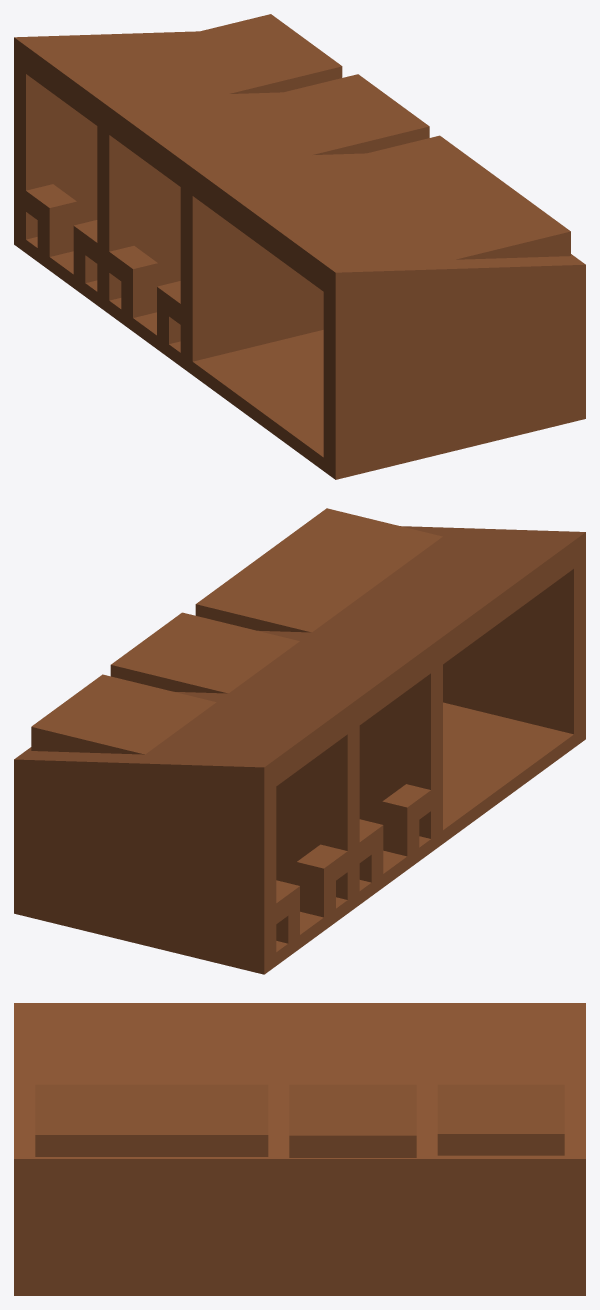
Rendered from hevostalli.glb.
3 renders of one model, top to bottom at view 1: azimuth 30°, elevation 25°; view 2: azimuth 150°, elevation 25°; view 3: azimuth 270°, elevation 25°, orthographic. The views are drawn at different scales.
Visible parts, largest first — view 1: Cube; view 2: Cube; view 3: Cube.
Boxes of the visible parts, bbox=[...] form: Cube: bbox=[14, 14, 585, 479]; Cube: bbox=[14, 508, 585, 974]; Cube: bbox=[14, 1003, 585, 1295].
Size of the model in its own units: 6.81 by 5.39 by 15.15.
